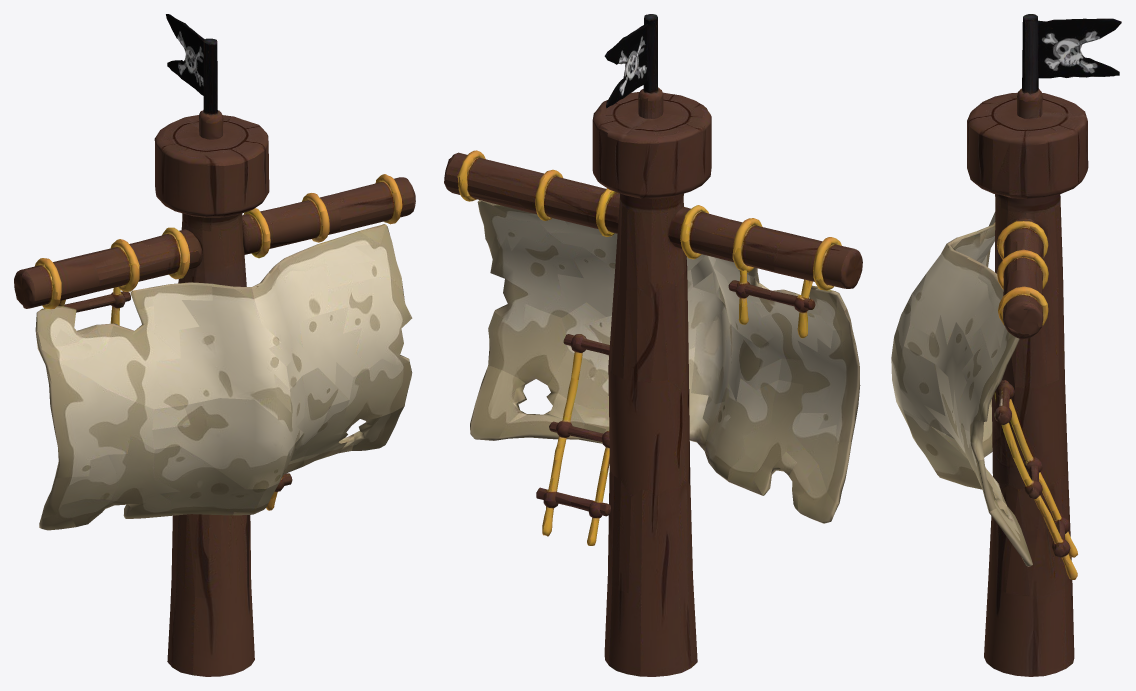
The model's file is la_mastil.glb.
The picture shows the model from 3 angles, left to right: view 1: azimuth 30°, elevation 25°; view 2: azimuth 150°, elevation 25°; view 3: azimuth 270°, elevation 25°; orthographic projection. The views are drawn at different scales.
Bounding box in the file's own units: 0.6582 × 1 × 0.3262.
1 material, 1 textured.
